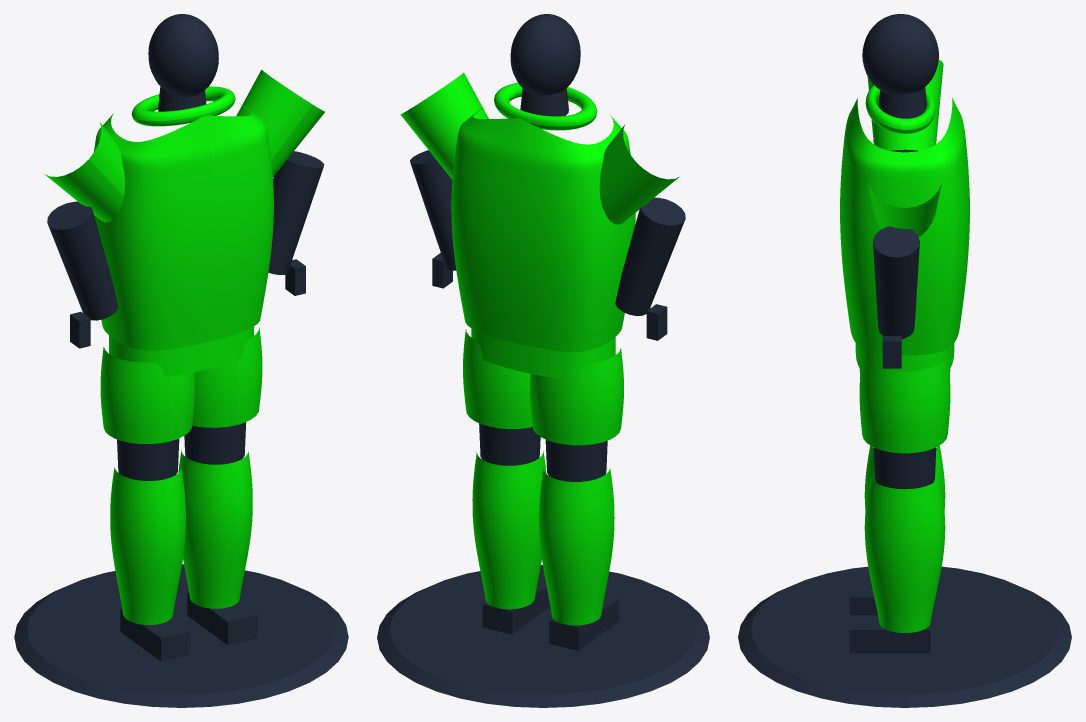
The model's file is kit_full_outfit_clean.glb.
3 views of the same model, side by side, from view 1: azimuth 30°, elevation 25°; view 2: azimuth 150°, elevation 25°; view 3: azimuth 270°, elevation 25° (orthographic).
Parts seen in each view (by area): view 1: jersey_torso, mannequin_pedestal, socks_right, socks_left, shorts_leg_right, mannequin_arm_right, mannequin_head, mannequin_arm_left, shorts_leg_left, jersey_sleeve_left, jersey_sleeve_right, shorts_pelvis (+6 smaller); view 2: jersey_torso, mannequin_pedestal, socks_right, socks_left, shorts_leg_right, mannequin_arm_right, mannequin_head, shorts_leg_left, jersey_sleeve_left, jersey_sleeve_right, mannequin_arm_left, shorts_pelvis (+6 smaller); view 3: mannequin_pedestal, jersey_torso, socks_left, shorts_leg_left, mannequin_arm_left, mannequin_head, mannequin_boot_left, mannequin_knee_left, jersey_sleeve_right, jersey_sleeve_left, jersey_collar, shorts_pelvis (+3 smaller).
Part boxes in pixels (box(x1,y1,x2,y2)): jersey_torso: box(93, 103, 273, 350); mannequin_pedestal: box(14, 564, 348, 707); socks_right: box(110, 466, 185, 624); socks_left: box(178, 450, 252, 608); shorts_leg_right: box(100, 347, 194, 443); mannequin_arm_right: box(47, 201, 118, 348); mannequin_head: box(148, 14, 218, 96); mannequin_arm_left: box(268, 151, 324, 295); shorts_leg_left: box(192, 327, 262, 427); jersey_sleeve_left: box(236, 69, 324, 176); jersey_sleeve_right: box(44, 122, 124, 222); shorts_pelvis: box(109, 326, 253, 376); jersey_torso: box(451, 107, 635, 352); mannequin_pedestal: box(377, 565, 709, 707); socks_right: box(539, 467, 614, 625); socks_left: box(472, 451, 546, 609); shorts_leg_right: box(530, 348, 623, 445); mannequin_arm_right: box(615, 197, 685, 340); mannequin_head: box(510, 14, 580, 95); shorts_leg_left: box(463, 329, 532, 428); jersey_sleeve_left: box(400, 72, 488, 179); jersey_sleeve_right: box(599, 124, 679, 224); mannequin_arm_left: box(410, 150, 456, 288); shorts_pelvis: box(471, 328, 615, 378); mannequin_pedestal: box(738, 566, 1071, 707); jersey_torso: box(840, 97, 969, 355); socks_left: box(864, 476, 945, 632); shorts_leg_left: box(859, 360, 950, 453); mannequin_arm_left: box(873, 226, 919, 368); mannequin_head: box(862, 14, 938, 94); mannequin_boot_left: box(849, 615, 930, 653); mannequin_knee_left: box(873, 447, 936, 489); jersey_sleeve_right: box(867, 60, 943, 150); jersey_sleeve_left: box(868, 183, 941, 236); jersey_collar: box(865, 85, 935, 133); shorts_pelvis: box(855, 343, 954, 371).
Bounding box in the file's own units: 1.56 × 3.2 × 1.56.
Materials: 4 (3 with a texture image).
